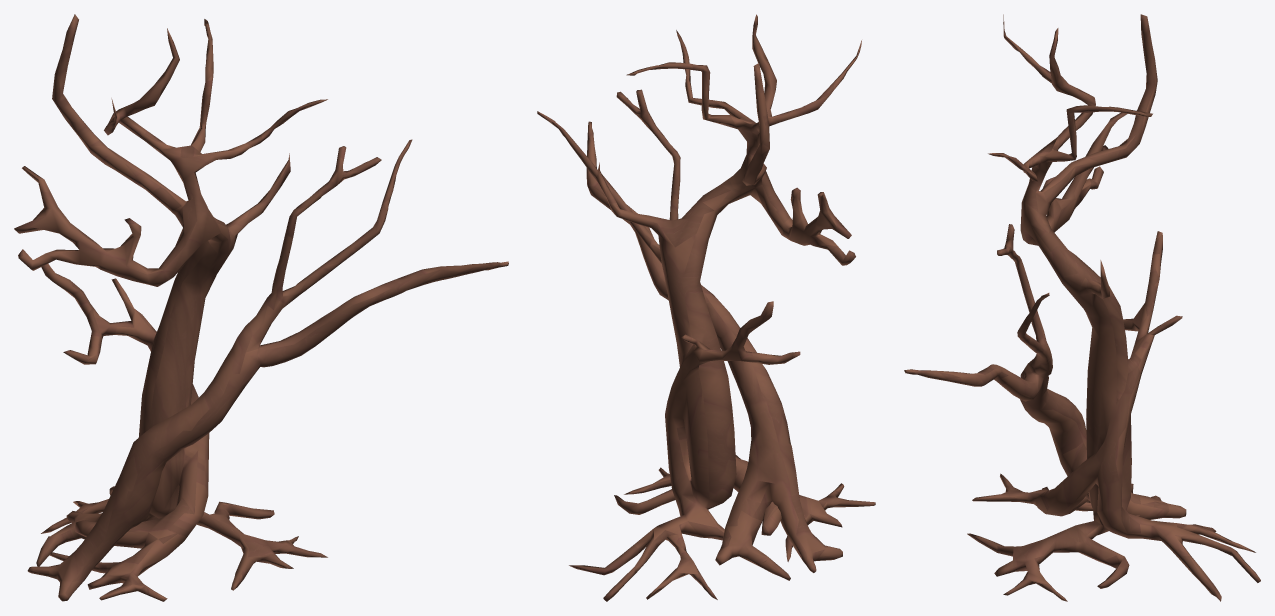
Rendered from Tree1.fbx.
3 renders of one model, left to right at view 1: azimuth 30°, elevation 25°; view 2: azimuth 150°, elevation 25°; view 3: azimuth 270°, elevation 25°, orthographic. The views are drawn at different scales.
Visible parts, largest first — view 1: Tree1; view 2: Tree1; view 3: Tree1.
Boxes of the visible parts, x1,y1,x2,y2 form: Tree1: (14,14,508,601); Tree1: (537,14,875,601); Tree1: (904,14,1260,601).
Size of the model in its own units: 296 by 411 by 251.
Materials: 1 (1 with a texture image).
